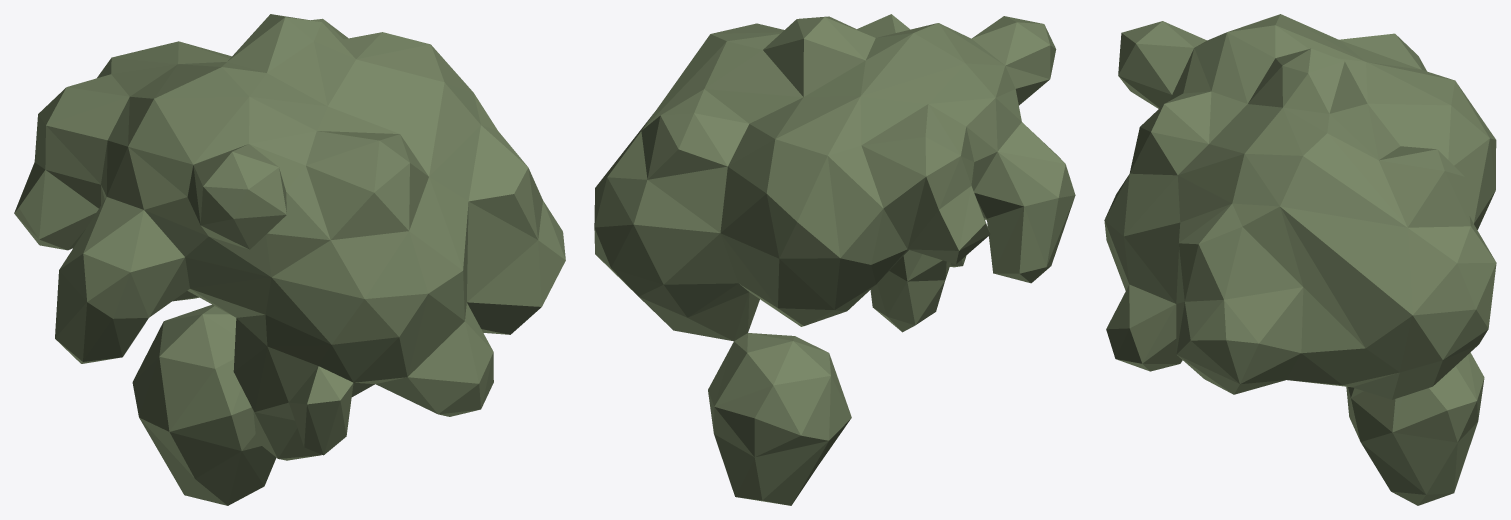
Rendered from DyingVegetationDecorationLargeCluster1.fbx.
3 renders of one model, left to right at view 1: azimuth 30°, elevation 25°; view 2: azimuth 150°, elevation 25°; view 3: azimuth 270°, elevation 25°, orthographic. The views are drawn at different scales.
Parts seen in each view (by area): view 1: DyingVegetationDecorationLargeCluster1; view 2: DyingVegetationDecorationLargeCluster1; view 3: DyingVegetationDecorationLargeCluster1.
Part boxes in pixels (box(x1,y1,x2,y2)): DyingVegetationDecorationLargeCluster1: box(14, 14, 565, 505); DyingVegetationDecorationLargeCluster1: box(594, 14, 1075, 505); DyingVegetationDecorationLargeCluster1: box(1104, 14, 1496, 505).
Size of the model in its own units: 947 by 1004 by 791.
